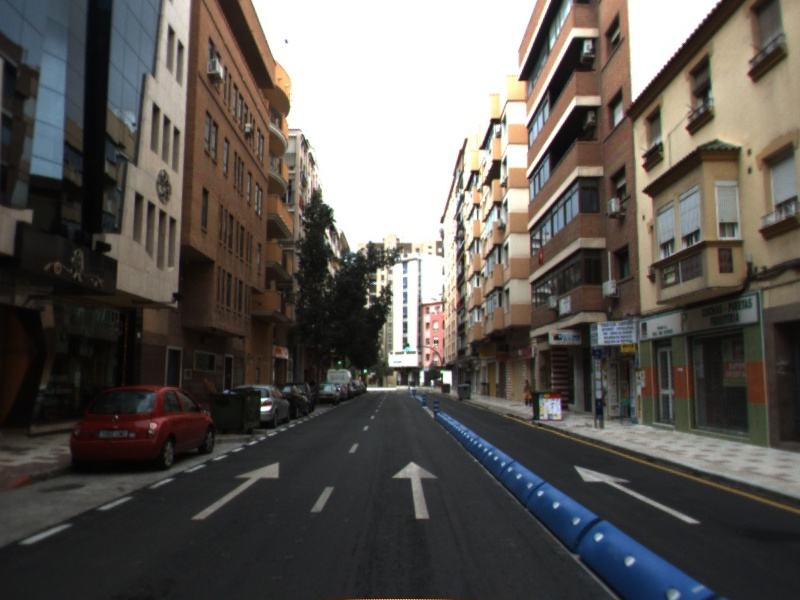STRAIGHT: (573, 464, 703, 525), (190, 460, 281, 521), (391, 460, 439, 520)
